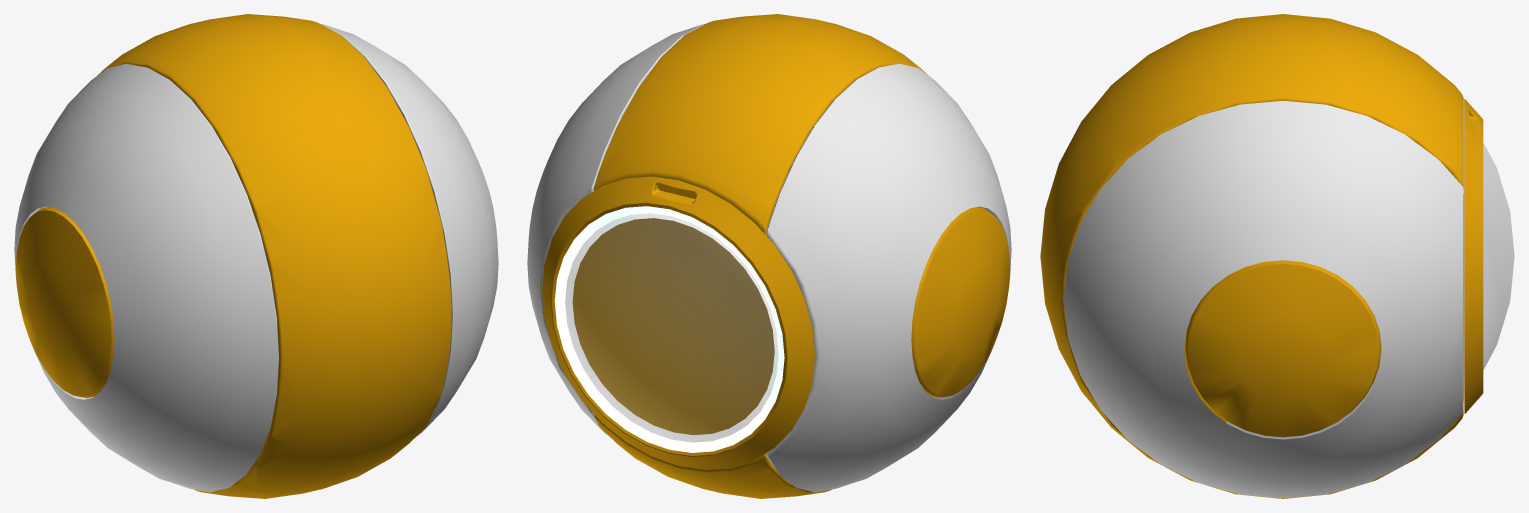
The model's file is RiggableBot.glb.
3 renders of one model, left to right at view 1: azimuth 30°, elevation 25°; view 2: azimuth 150°, elevation 25°; view 3: azimuth 270°, elevation 25°, orthographic.
Parts seen in each view (by area): view 1: SideBody.001, CenterBody, SidePanel.001; view 2: SideBody.001, FrontRing, CenterBody, Glass, SidePanel.001, GlassLightRing; view 3: SideBody.001, CenterBody, SidePanel.001, FrontRing, Glass.
Boxes of the visible parts, left/top/right/bottom form: SideBody.001: left=14, top=23, right=498, bottom=492; CenterBody: left=97, top=14, right=451, bottom=498; SidePanel.001: left=16, top=207, right=114, bottom=398; SideBody.001: left=527, top=23, right=1011, bottom=492; FrontRing: left=542, top=176, right=814, bottom=469; CenterBody: left=594, top=14, right=928, bottom=498; Glass: left=565, top=213, right=778, bottom=442; SidePanel.001: left=911, top=207, right=1009, bottom=398; GlassLightRing: left=554, top=206, right=784, bottom=452; SideBody.001: left=1063, top=100, right=1463, bottom=498; CenterBody: left=1040, top=14, right=1463, bottom=498; SidePanel.001: left=1185, top=260, right=1381, bottom=437; FrontRing: left=1464, top=99, right=1483, bottom=413; Glass: left=1483, top=143, right=1514, bottom=369.
Size of the model in its own units: 2 by 2 by 1.95.
